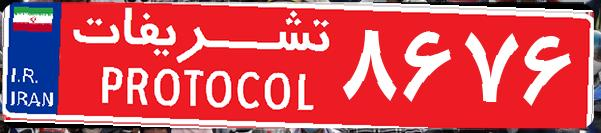6: (400, 20, 460, 115), (520, 20, 580, 115)
7: (460, 20, 520, 115)
8: (340, 20, 400, 115)
تشریفات: (60, 8, 340, 125)
